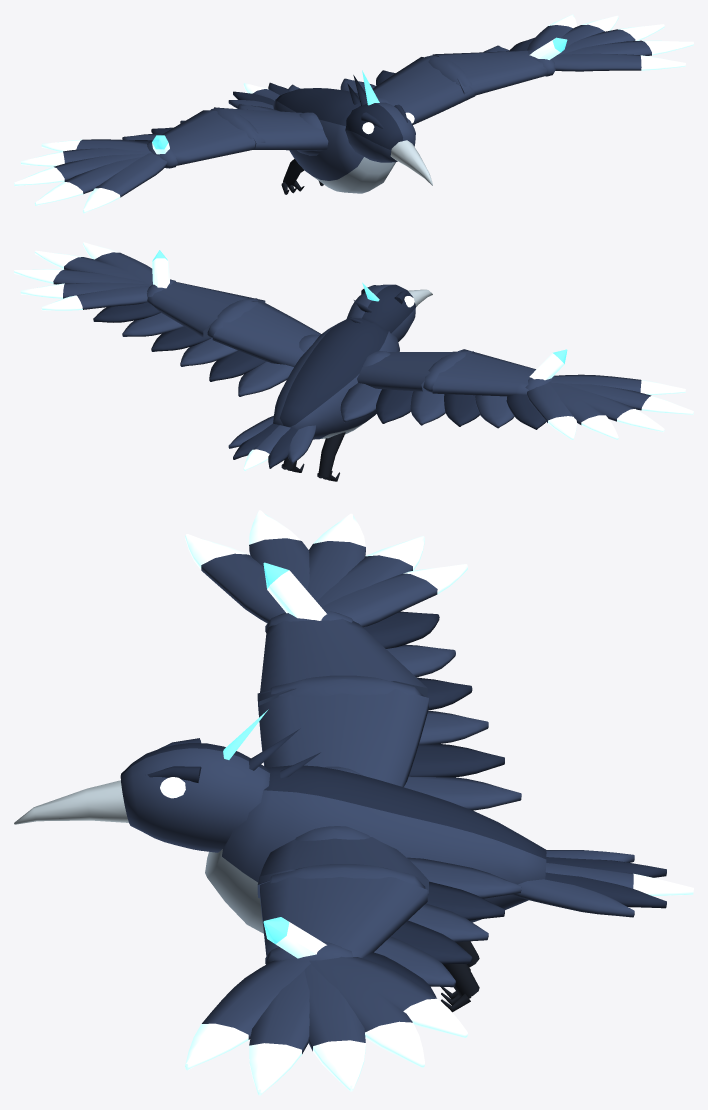
Rendered from crow.glb.
The picture shows the model from 3 angles, top to bottom: view 1: azimuth 30°, elevation 25°; view 2: azimuth 150°, elevation 25°; view 3: azimuth 270°, elevation 25°; orthographic projection. The views are drawn at different scales.
Visible parts, largest first — view 1: Torso, LArm, RForearm, LForearm, HeadMesh, RArm, LPrimary0, RPrimary0, RPrimary1, RPrimary2, LPrimary1, LPrimary2 (+10 smaller); view 2: Torso, LArm, RForearm, LForearm, RArm, HeadMesh, LPrimary4, RPrimary2, RPrimary1, RPrimary4, RPrimary0, LPrimary2 (+26 smaller); view 3: Torso, RArm, HeadMesh, LForearm, RForearm, LPrimary0, LPrimary1, LPrimary2, RPrimary4, LPrimary3, LArm, LPrimary4 (+24 smaller).
Boxes of the visible parts, x1,y1,x2,y2 form: Torso: (273,88,395,193); LArm: (372,57,475,124); RForearm: (148,110,265,165); LForearm: (432,50,546,95); HeadMesh: (345,102,415,162); RArm: (214,107,328,150); LPrimary0: (552,53,685,71); RPrimary0: (82,153,167,213); RPrimary1: (34,156,142,205); RPrimary2: (14,153,148,186); LPrimary1: (561,40,693,55); LPrimary2: (558,24,664,54); Torso: (273,317,399,439); LArm: (212,298,321,366); RForearm: (432,349,535,396); LForearm: (147,281,265,337); RArm: (357,351,473,391); HeadMesh: (346,284,415,341); LPrimary4: (41,286,149,310); RPrimary2: (553,383,664,432); RPrimary1: (561,383,693,414); RPrimary4: (527,383,576,439); RPrimary0: (550,374,685,394); LPrimary2: (14,269,147,284); Torso: (205,765,546,933); RArm: (257,689,428,786); HeadMesh: (120,743,269,852); LForearm: (259,869,427,958); RForearm: (259,618,427,705); LPrimary0: (185,959,310,1070); LPrimary1: (249,970,309,1095); LPrimary2: (304,964,365,1091); RPrimary4: (321,564,467,627); LPrimary3: (309,960,424,1067); LArm: (257,837,428,898); LPrimary4: (314,956,467,1037).
Size of the model in its own units: 2.58 by 0.586 by 1.28.
